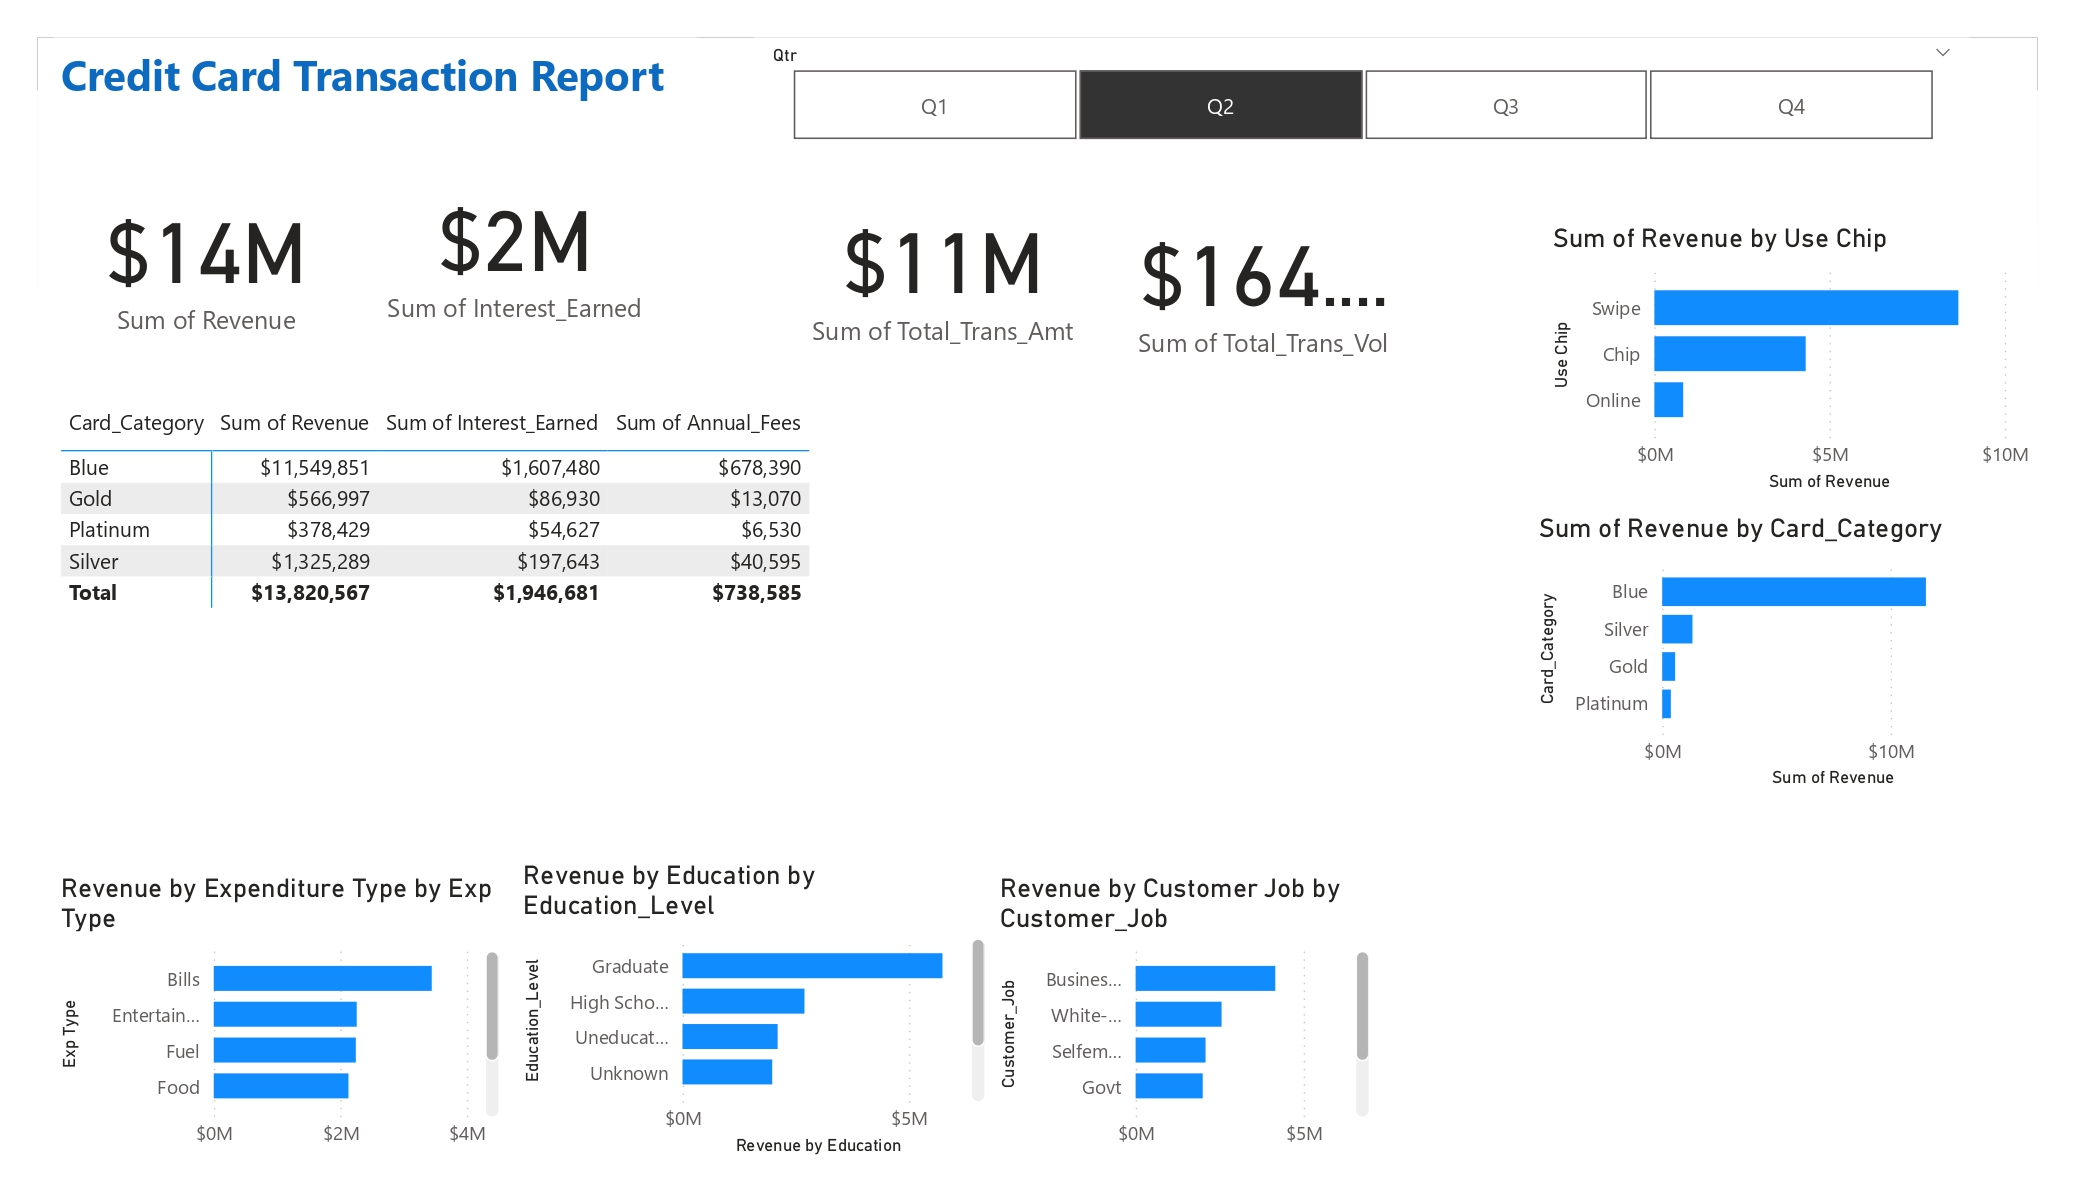

The dashboard page shown, as its layout file describes it:
{"tool":"powerbi","page":{"name":"FINANCE","canvas":[1280,720],"ordinal":0},"visuals":[{"type":"textbox","box":[10.1,0,412.7,83.5],"z":0},{"type":"barChart","fields":{"Y":["Sum(Public cc-detail.Revenue)"],"Category":["Public cc-detail.Exp Type"]},"box":[9.8,393.8,289.8,326.5],"z":1000},{"type":"barChart","fields":{"Y":["Sum(Public cc-detail.Revenue)"],"Category":["Public cust-detail.Education_Level"]},"box":[305.7,393.8,305.7,326.5],"z":2000},{"type":"barChart","fields":{"Y":["Sum(Public cc-detail.Revenue)"],"Category":["Public cust-detail.Customer_Job"]},"box":[611.4,440.2,245.8,280],"z":3000},{"type":"barChart","fields":{"Y":["Sum(Public cc-detail.Revenue)"],"Category":["Public cc-detail.Use Chip"]},"box":[964.8,117.4,315.5,242.1],"z":4000},{"type":"barChart","fields":{"Y":["Sum(Public cc-detail.Revenue)"],"Category":["Public cc-detail.Card_Category"]},"box":[944,376.6,324.1,343.6],"z":5000},{"type":"card","fields":{"Values":["Sum(Public cc-detail.Revenue)"]},"box":[6.1,72.1,204.2,139.4],"z":6000},{"type":"card","fields":{"Values":["Sum(Public cc-detail.Interest_Earned)"]},"box":[210.3,77,190.8,113.7],"z":7000},{"type":"card","fields":{"Values":["Sum(Public cc-detail.Total_Trans_Amt)"]},"box":[473.4,87.3,212.7,122.8],"z":8000},{"type":"card","fields":{"Values":["Sum(Public cc-detail.Total_Trans_Vol)"]},"box":[686,92.9,196.9,127.2],"z":9000},{"type":"pivotTable","fields":{"Rows":["Public cc-detail.Card_Category"],"Values":["Sum(Public cc-detail.Revenue)","Sum(Public cc-detail.Interest_Earned)","Sum(Public cc-detail.Annual_Fees)"]},"box":[9.8,231.1,507.5,162.6],"z":10000},{"type":"slicer","fields":{"Values":["Public cc-detail.Qtr"]},"box":[458.2,0,778.5,72.2],"z":11000}]}

Visuals, with their boxes on the page's 1280x720 design canvas (x1, y1, x2, y2). These are canvas units, not pixel positions in the 2075x1200 screenshot, which may show the page scaled, cropped or inside an application window:
textbox: [10,0,423,84]
barChart - Sum(Public cc-detail.Revenue) x Public cc-detail.Exp Type: [10,394,300,720]
barChart - Sum(Public cc-detail.Revenue) x Public cust-detail.Education_Level: [306,394,611,720]
barChart - Sum(Public cc-detail.Revenue) x Public cust-detail.Customer_Job: [611,440,857,720]
barChart - Sum(Public cc-detail.Revenue) x Public cc-detail.Use Chip: [965,117,1280,360]
barChart - Sum(Public cc-detail.Revenue) x Public cc-detail.Card_Category: [944,377,1268,720]
card - Sum(Public cc-detail.Revenue): [6,72,210,212]
card - Sum(Public cc-detail.Interest_Earned): [210,77,401,191]
card - Sum(Public cc-detail.Total_Trans_Amt): [473,87,686,210]
card - Sum(Public cc-detail.Total_Trans_Vol): [686,93,883,220]
pivotTable - Public cc-detail.Card_Category x Sum(Public cc-detail.Revenue): [10,231,517,394]
slicer - Public cc-detail.Qtr: [458,0,1237,72]
